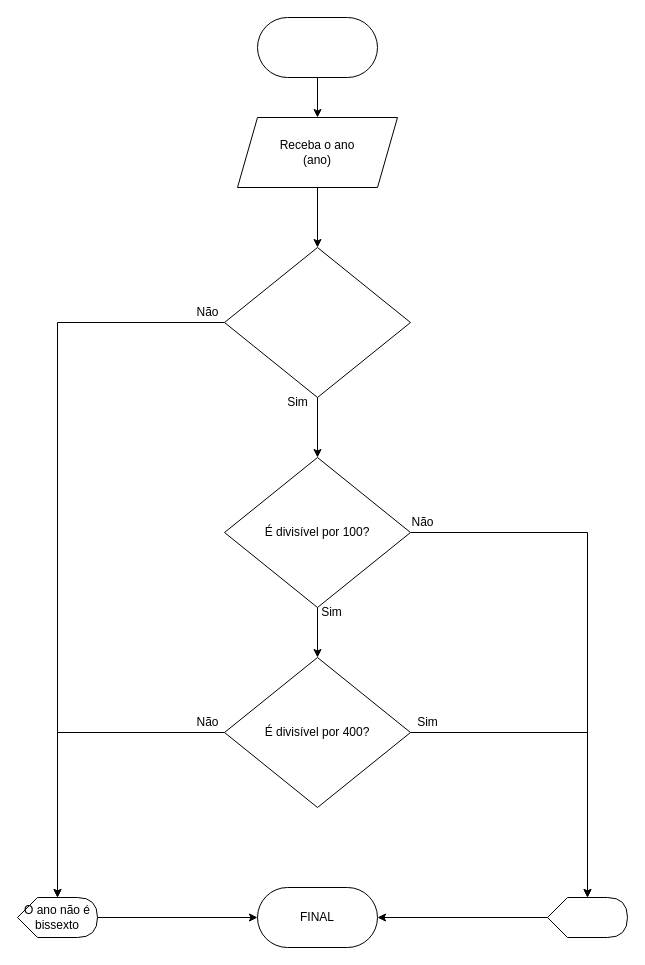
Image size: 645x965. Some labels were removed from this diagram. The centre of each missing label's shape, as x and y in pixels:
INICIO: point (317, 47)
O ano é bissexto: point (587, 917)
É divisível por 4?: point (317, 322)
